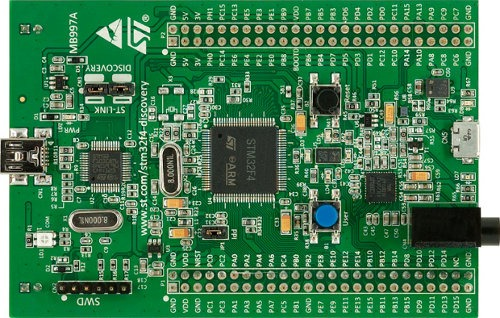STM32F4-DISC: (0, 0, 489, 318)
